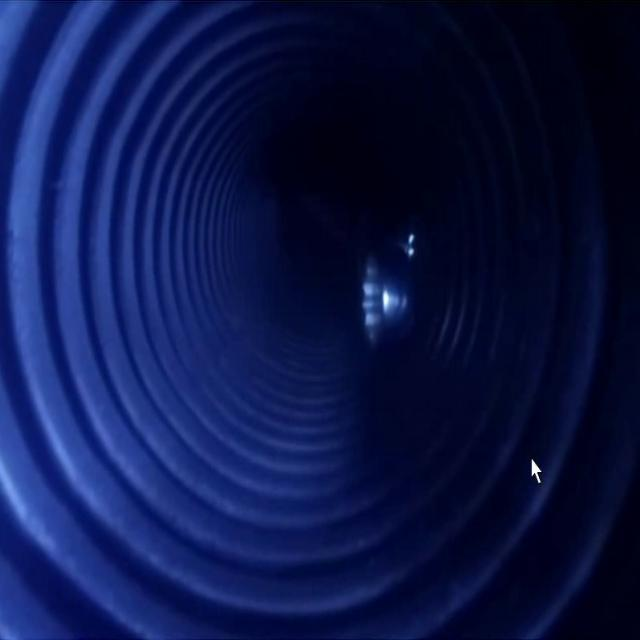metal piece: (363, 224, 431, 358)
